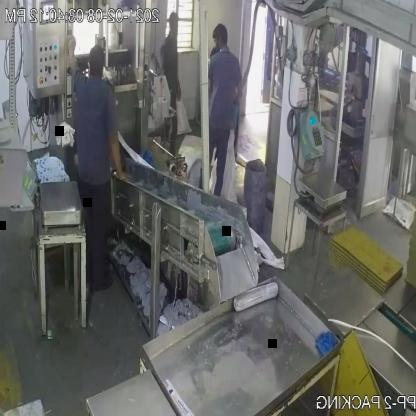no_glove: (109, 122, 130, 187), (63, 27, 79, 83)
